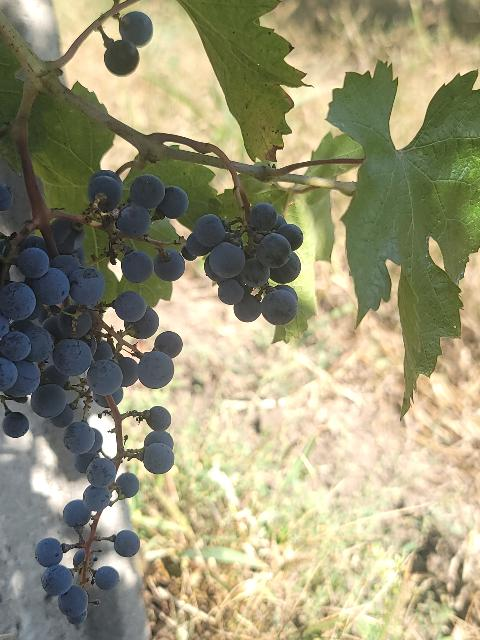grapes: (0, 219, 182, 625), (185, 204, 302, 325), (80, 170, 188, 282)
